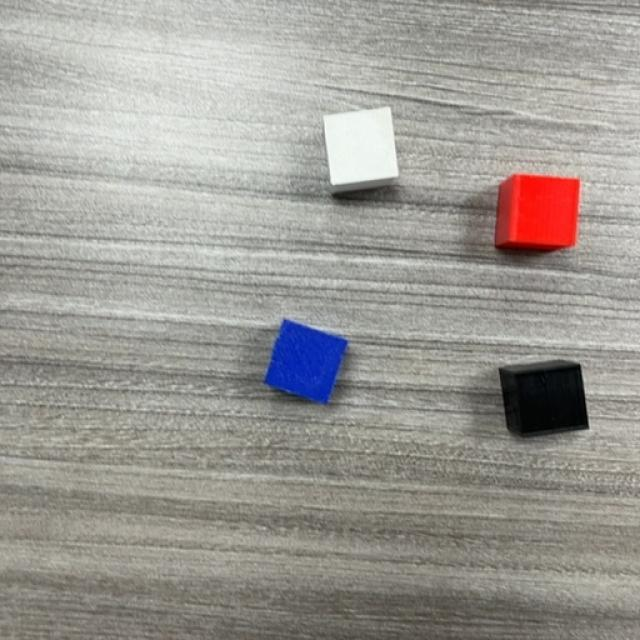Azul: (265, 320, 349, 405)
Blanco: (325, 108, 399, 195)
Negro: (499, 360, 589, 439)
Rojo: (496, 174, 580, 254)
